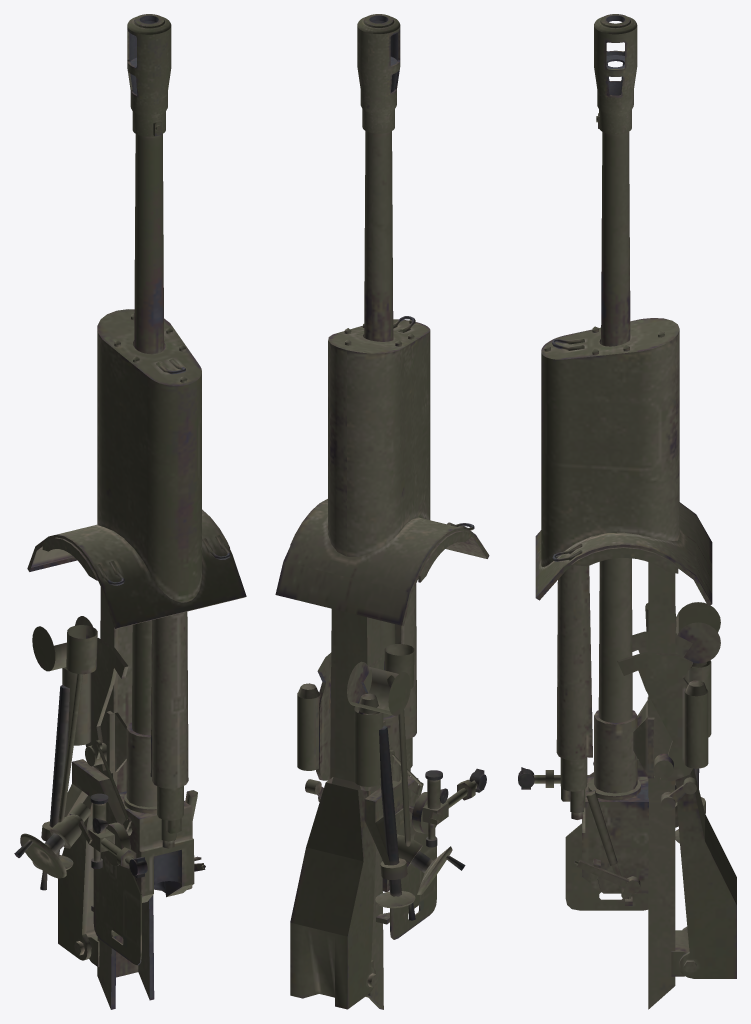
File: Gun_02.glb
The picture shows the model from 3 angles, left to right: view 1: azimuth 30°, elevation 25°; view 2: azimuth 150°, elevation 25°; view 3: azimuth 270°, elevation 25°; orthographic projection. The views are drawn at different scales.
Visible parts, largest first — view 1: set_0_group_0; view 2: set_0_group_0; view 3: set_0_group_0.
Part boxes in pixels (left/top/right/bottom): set_0_group_0: left=14, top=14, right=246, bottom=1009; set_0_group_0: left=275, top=14, right=489, bottom=1009; set_0_group_0: left=518, top=14, right=736, bottom=1009.
Size of the model in its own units: 0.7125 by 4 by 0.8089.
Materials: 1 (1 with a texture image).
